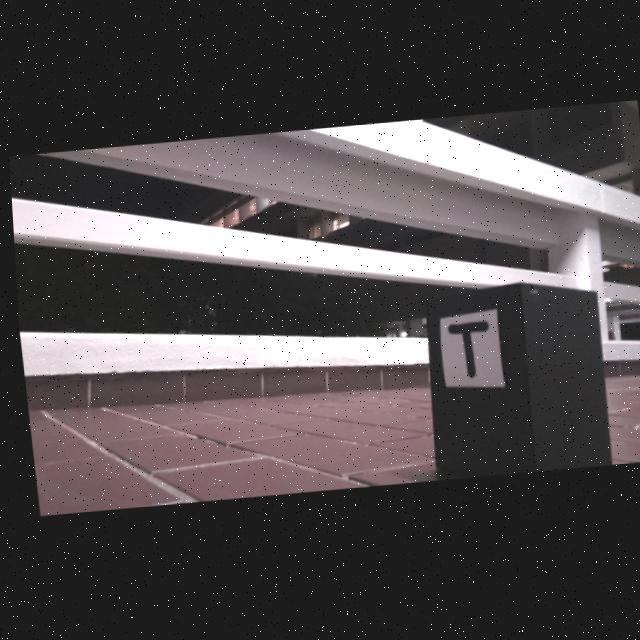T: (443, 325, 485, 381)
